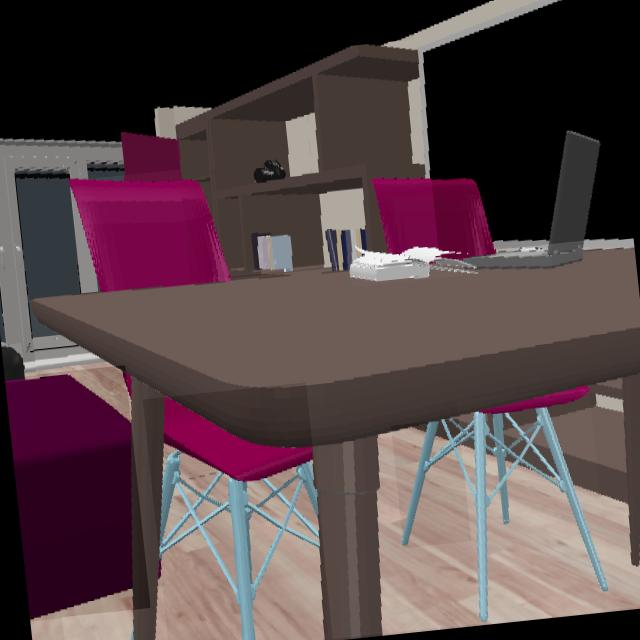book: (350, 249, 470, 283)
bookshelf: (175, 45, 425, 270)
chair: (160, 398, 319, 640), (473, 387, 609, 624), (71, 180, 230, 293), (373, 179, 495, 258), (402, 421, 468, 548)
laptop: (471, 131, 601, 271)
monitor: (417, 0, 633, 243)
person: (1, 345, 24, 382)
sofa: (5, 373, 133, 620)
table: (29, 243, 640, 640)
